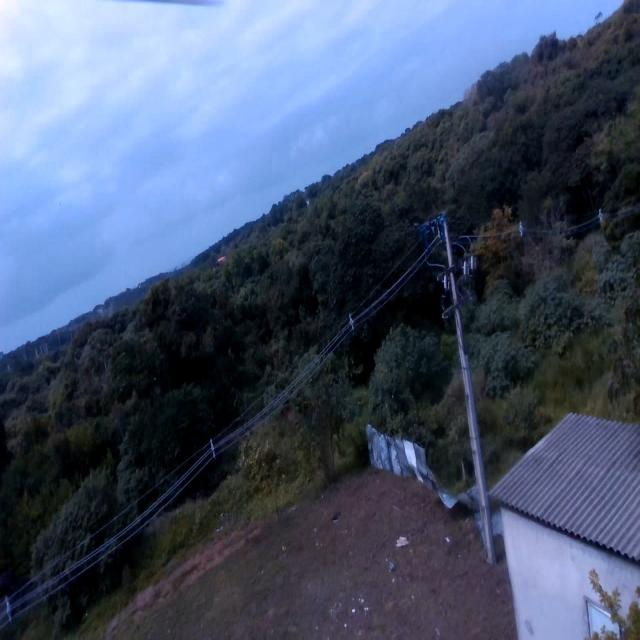-uav-: (398, 213, 456, 261)
